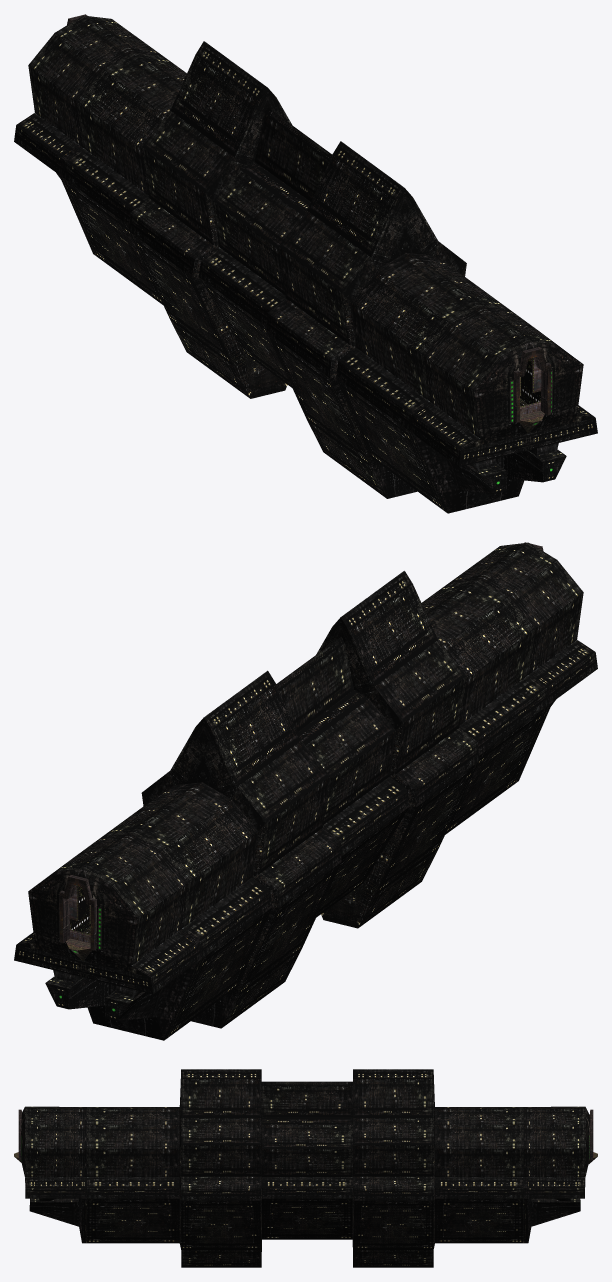
File: golem_mesh.fbx
3 views of the same model, one above another, from view 1: azimuth 30°, elevation 25°; view 2: azimuth 150°, elevation 25°; view 3: azimuth 270°, elevation 25° (orthographic). The views are drawn at different scales.
Parts seen in each view (by area): view 1: processoroout, processordetails; view 2: processoroout, processordetails; view 3: processoroout, processordetails.
Boxes of the visible parts, left/top/right/bottom form: processoroout: left=14, top=15, right=597, bottom=513; processordetails: left=67, top=14, right=551, bottom=432; processoroout: left=14, top=542, right=597, bottom=1040; processordetails: left=59, top=542, right=543, bottom=960; processoroout: left=21, top=1069, right=589, bottom=1267; processordetails: left=14, top=1109, right=597, bottom=1164.
Size of the model in its own units: 2602 by 5106 by 13986.
